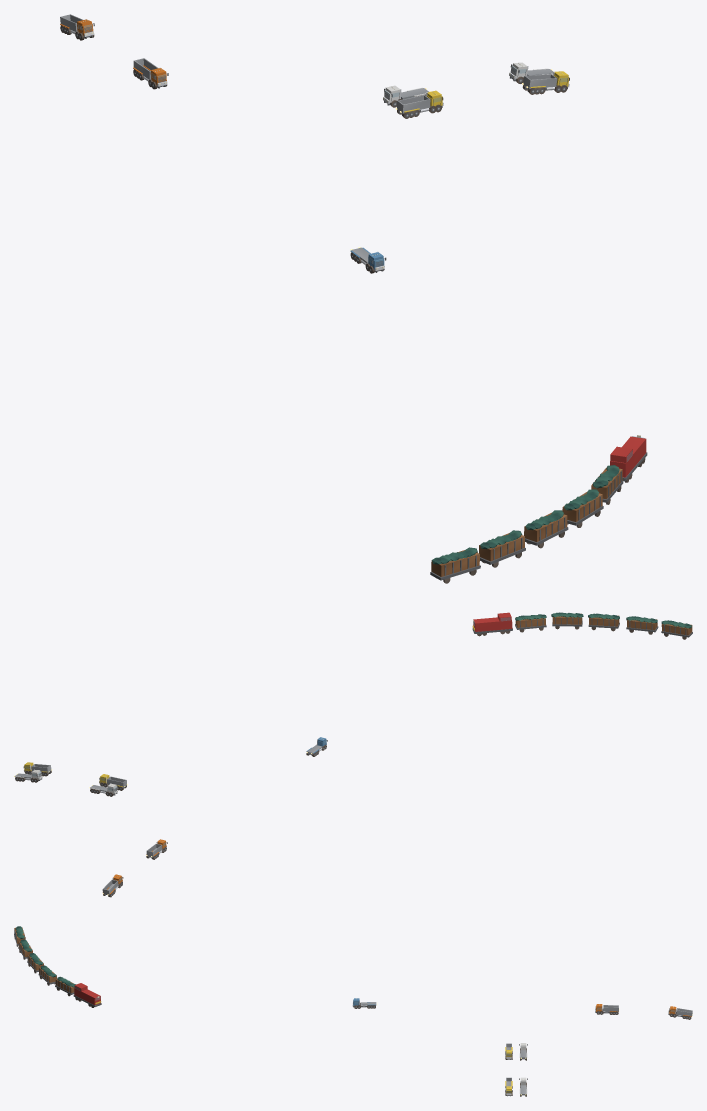
The model's file is Vehicles_P2.fbx.
3 renders of one model, top to bottom at view 1: azimuth 30°, elevation 25°; view 2: azimuth 150°, elevation 25°; view 3: azimuth 270°, elevation 25°, orthographic. The views are drawn at different scales.
Parts seen in each view (by area): view 1: wagon.004, wagon.003, wagon.002, train, wagon.001, truck_road_ore2, truck_road_ore3; view 2: train, wagon.003, wagon.001, wagon.004, wagon, wagon.002; view 3: train.
Part boxes in pixels (x1=…): wagon.004: x1=430, y1=547, x2=480, y2=583; wagon.003: x1=479, y1=530, x2=525, y2=567; wagon.002: x1=524, y1=510, x2=568, y2=548; train: x1=610, y1=435, x2=647, y2=482; wagon.001: x1=562, y1=489, x2=603, y2=527; truck_road_ore2: x1=395, y1=90, x2=443, y2=118; truck_road_ore3: x1=522, y1=71, x2=569, y2=94; train: x1=472, y1=612, x2=512, y2=636; wagon.003: x1=626, y1=616, x2=658, y2=634; wagon.001: x1=551, y1=612, x2=583, y2=629; wagon.004: x1=661, y1=620, x2=692, y2=639; wagon: x1=515, y1=614, x2=546, y2=632; wagon.002: x1=588, y1=613, x2=619, y2=631; train: x1=73, y1=983, x2=101, y2=1007.
Bounding box in the file's own units: 14959 × 946 × 28112.
